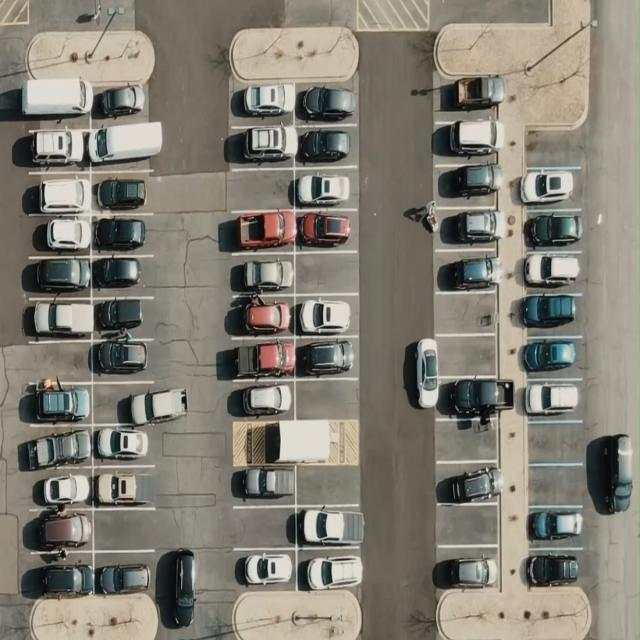space-empty: (24, 340, 94, 384), (225, 167, 293, 212), (434, 290, 500, 336), (526, 122, 588, 170), (230, 506, 296, 550), (436, 504, 501, 548), (94, 508, 162, 550), (294, 250, 358, 294), (294, 378, 358, 421), (294, 462, 358, 505), (524, 422, 587, 465), (434, 419, 502, 458), (434, 338, 499, 377), (526, 464, 586, 506)
space-occupied: (92, 380, 174, 425), (22, 120, 90, 172), (89, 119, 160, 168), (22, 80, 92, 127), (433, 115, 504, 161), (28, 376, 93, 425), (433, 206, 502, 252), (29, 294, 92, 344), (434, 161, 502, 206), (24, 170, 90, 216), (439, 374, 506, 419), (226, 208, 294, 252), (516, 290, 584, 334), (228, 124, 294, 169), (434, 250, 501, 294), (296, 504, 360, 550), (230, 292, 294, 338), (518, 164, 583, 209), (436, 461, 501, 506), (228, 252, 294, 296), (231, 544, 297, 588), (228, 377, 295, 420), (293, 166, 357, 211), (294, 292, 358, 337), (520, 377, 584, 422), (522, 333, 586, 378), (228, 336, 294, 379), (90, 169, 153, 214), (522, 208, 586, 252), (29, 554, 93, 598), (436, 546, 500, 590), (94, 465, 159, 508), (27, 256, 92, 299), (29, 508, 95, 550), (30, 465, 94, 508), (230, 82, 294, 125), (296, 208, 358, 252), (524, 252, 586, 296), (90, 214, 158, 254), (296, 335, 356, 380), (234, 462, 294, 507), (437, 75, 497, 120), (298, 548, 361, 590), (297, 125, 358, 168), (296, 82, 357, 125), (92, 78, 151, 122), (90, 258, 154, 298), (93, 338, 152, 381), (94, 424, 154, 466), (527, 504, 584, 548), (30, 215, 91, 256), (34, 425, 92, 468), (94, 554, 153, 594), (93, 298, 152, 338), (527, 548, 583, 590)
